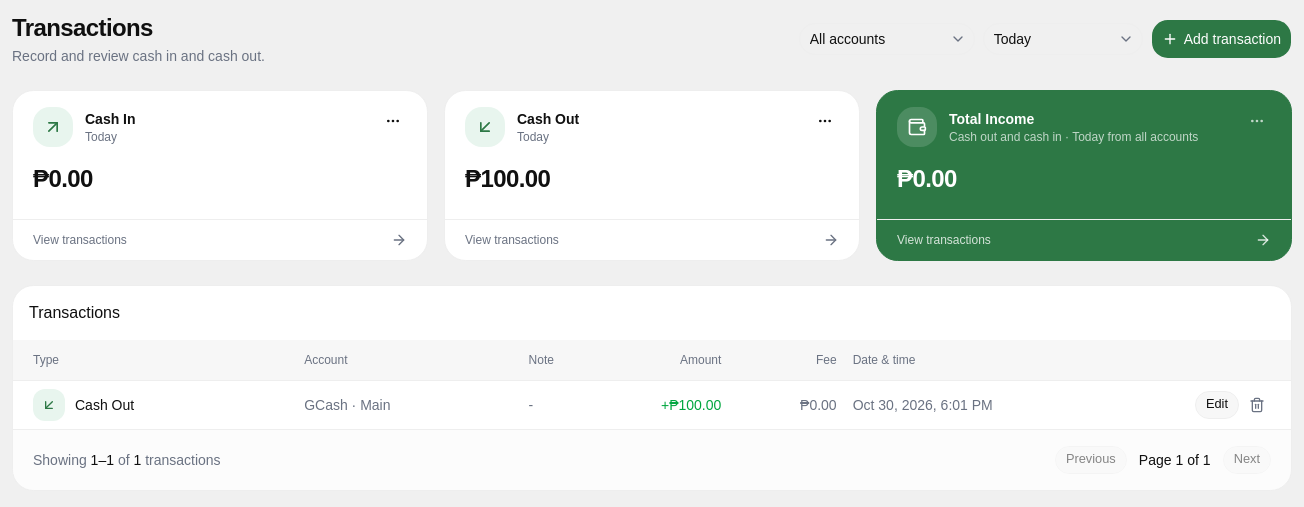
Test: Transactions page account filter › shows a friendly empty state for an account with no transactions
The image size is (1304, 507).
Click the dropdown named "Filter by account" at (887, 39), box 799,23 -> 975,55
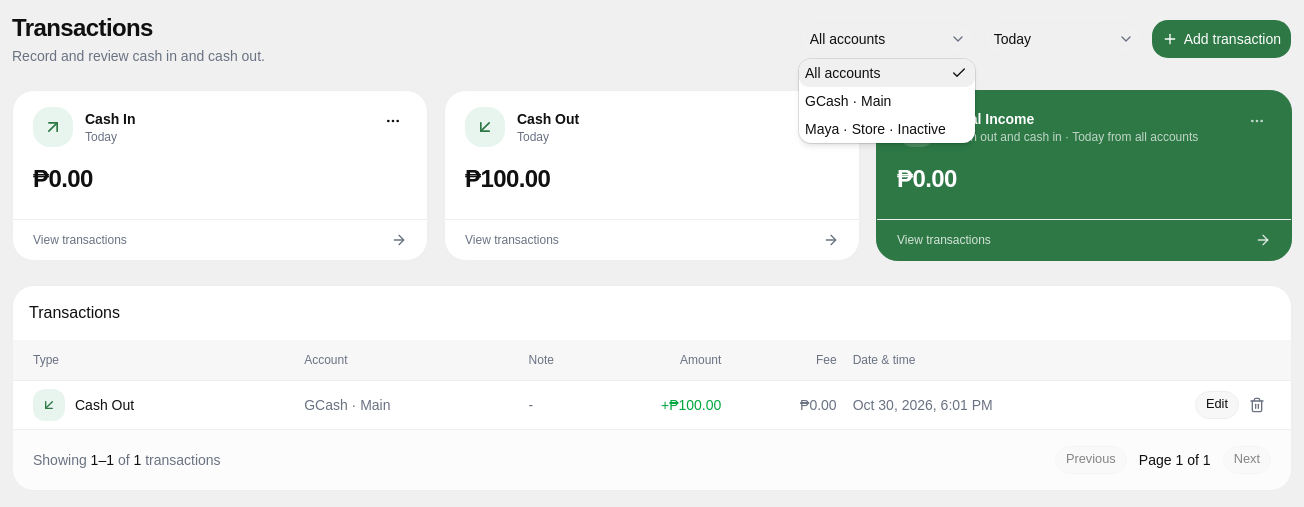
# Inactive accounts stay selectable and are marked.
Click the option "Maya · Store · Inactive" at (875, 129), box 805,121 -> 946,137
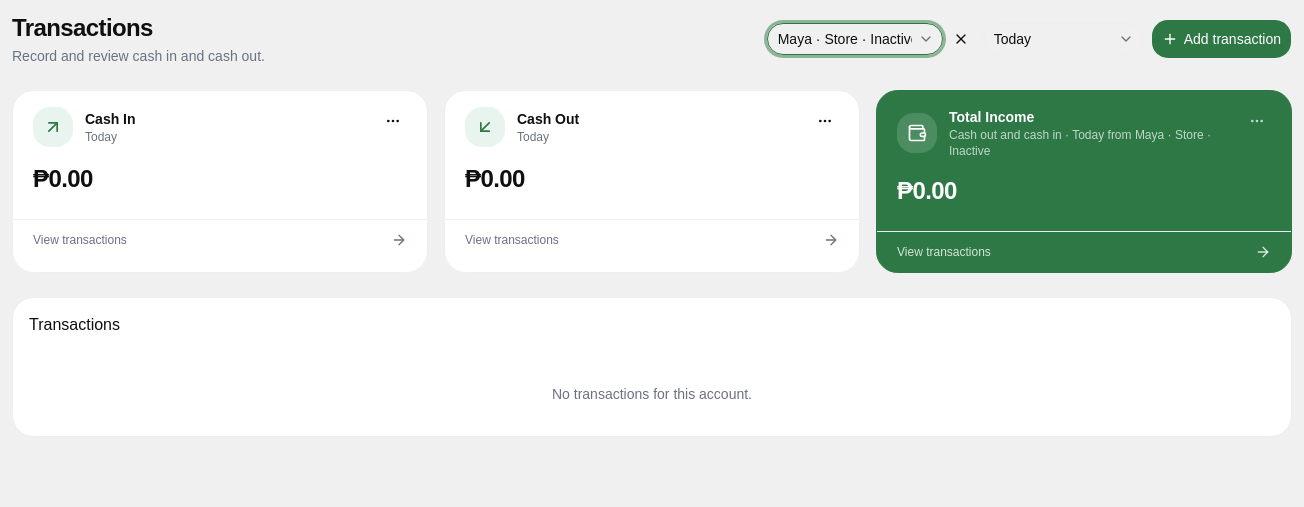
Result: the text "No transactions for this account." is shown at 552,386 -> 752,402
